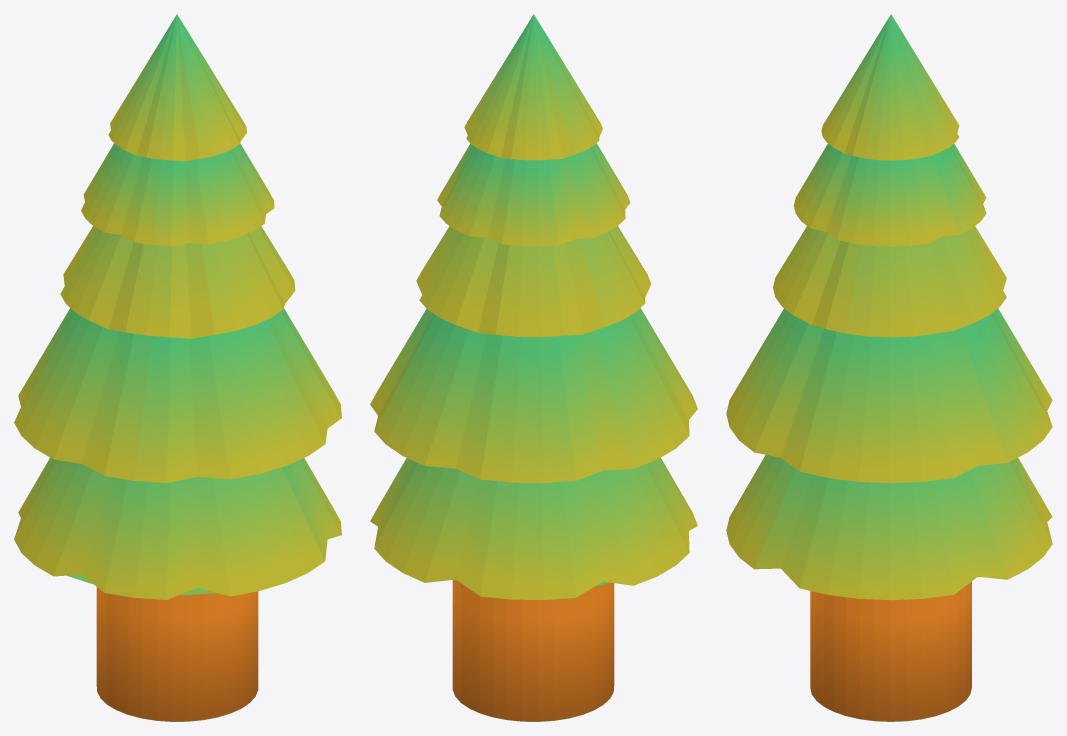
The model's file is tree_04.glb.
3 renders of one model, left to right at view 1: azimuth 30°, elevation 25°; view 2: azimuth 150°, elevation 25°; view 3: azimuth 270°, elevation 25°, orthographic.
Parts seen in each view (by area): view 1: Tree_01; view 2: Tree_01; view 3: Tree_01.
Part boxes in pixels (bbox=[...]): Tree_01: bbox=[14, 14, 341, 721]; Tree_01: bbox=[370, 14, 697, 721]; Tree_01: bbox=[726, 14, 1052, 721].
Size of the model in its own units: 2 by 4.51 by 1.98.
Materials: 1 (1 with a texture image).
